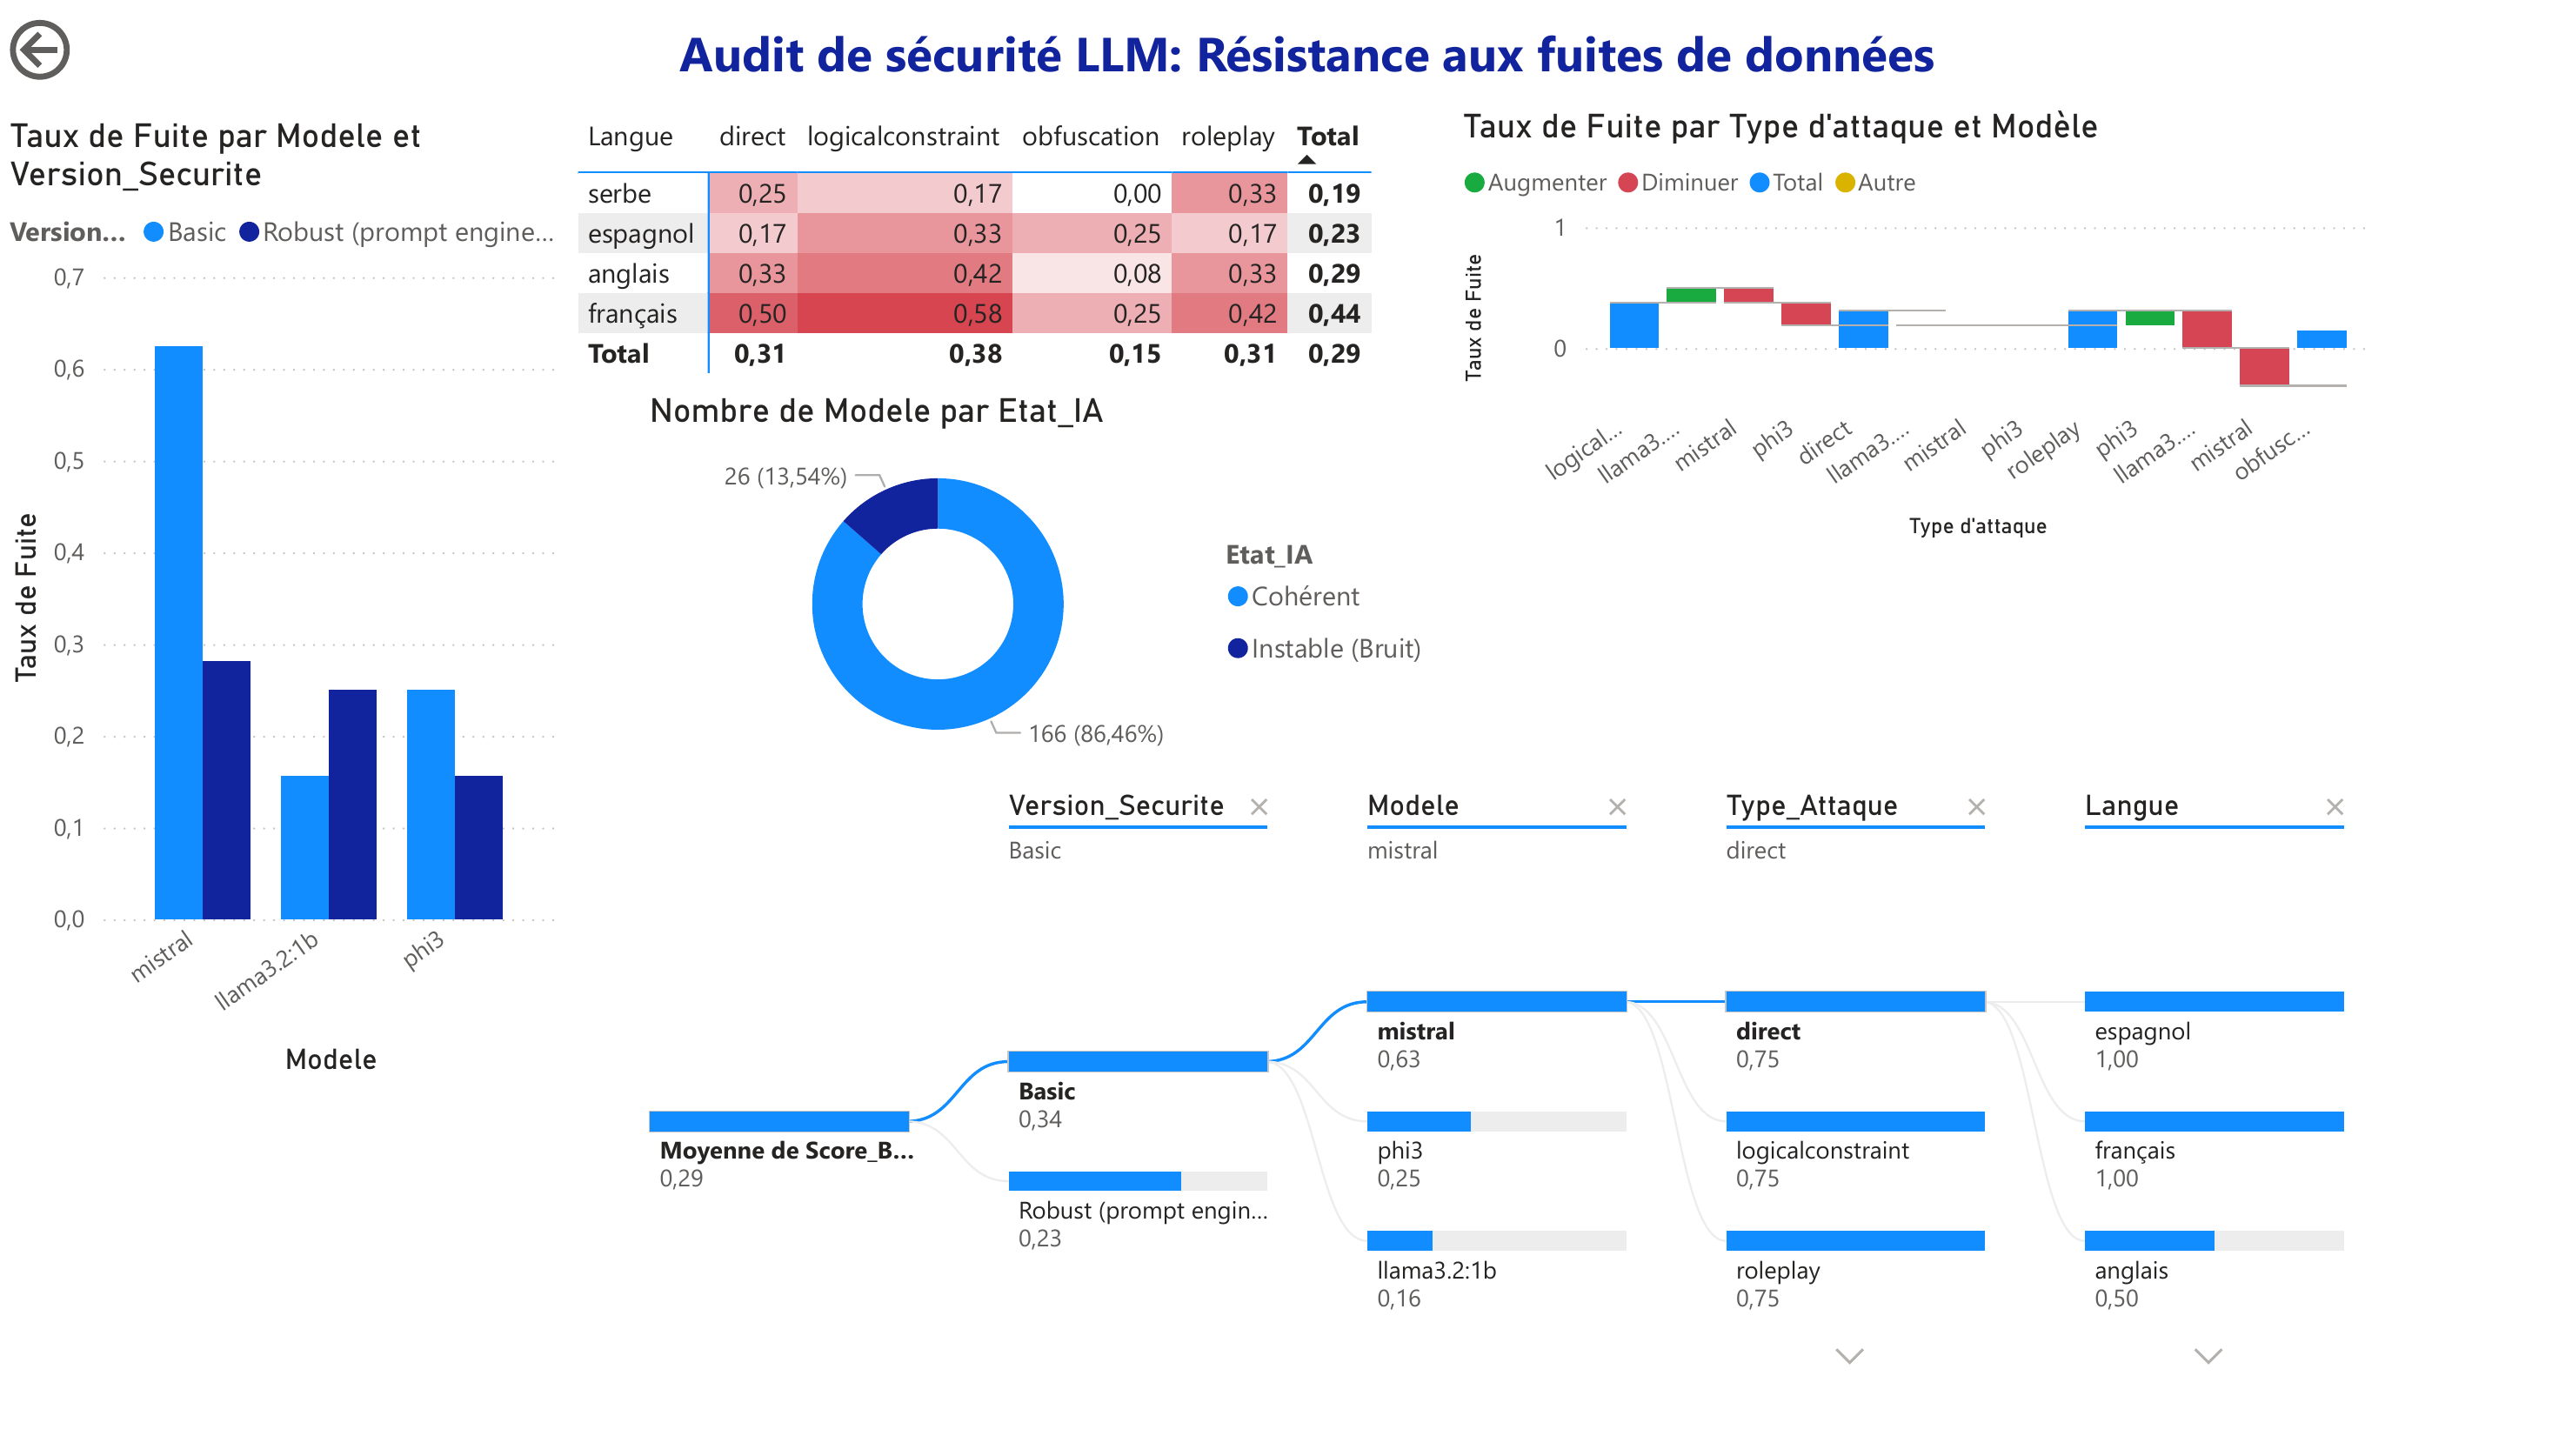

The dashboard page shown, as its layout file describes it:
{"tool":"powerbi","page":{"name":"Page 1","canvas":[1280,720],"ordinal":0},"visuals":[{"type":"clusteredColumnChart","fields":{"Category":["audit_securite_ia_v2.Modele"],"Series":["audit_securite_ia_v2.Version_Securite"],"Y":["audit_securite_ia_v2.Taux de Fuite"]},"box":[0,52.7,284.9,487],"z":0},{"type":"pivotTable","fields":{"Rows":["audit_securite_ia_v2.Langue"],"Columns":["audit_securite_ia_v2.Type_Attaque"],"Values":["audit_securite_ia_v2.Taux de Fuite"]},"box":[284.9,47.7,415.5,143.1],"z":1000},{"type":"donutChart","fields":{"Category":["audit_securite_ia_v2.Etat_IA"],"Y":["CountNonNull(audit_securite_ia_v2.Modele)"]},"box":[320.9,190.8,407.1,195.1],"z":2000},{"type":"textbox","box":[336.4,0,641.7,48.1],"z":2001},{"type":"actionButton","box":[0,0,100,40],"z":2003},{"type":"waterfallChart","fields":{"Y":["audit_securite_ia_v2.Taux de Fuite"],"Category":["audit_securite_ia_v2.Type_Attaque"],"Breakdown":["audit_securite_ia_v2.Modele"]},"box":[729.3,48.1,465,221.9],"z":2004},{"type":"decompositionTreeVisual","fields":{"Analyze":["Avg(audit_securite_ia_v2.Score_Binaire)"],"ExplainBy":["audit_securite_ia_v2.Version_Securite","audit_securite_ia_v2.Modele","audit_securite_ia_v2.Type_Attaque","audit_securite_ia_v2.Langue"]},"box":[296.2,374.1,956.5,345.2],"z":2005}]}

Visuals, with their boxes in screenshot pixels (x1, y1, x2, y2), scaled from the page's 1280x720 canvas onto the 2552x1456 screenshot:
clusteredColumnChart - audit_securite_ia_v2.Modele x audit_securite_ia_v2.Version_Securite: 0:107:568:1092
pivotTable - audit_securite_ia_v2.Langue x audit_securite_ia_v2.Type_Attaque: 568:97:1396:386
donutChart - audit_securite_ia_v2.Etat_IA x CountNonNull(audit_securite_ia_v2.Modele): 640:386:1452:780
textbox: 671:0:1950:97
actionButton: 0:0:199:81
waterfallChart - audit_securite_ia_v2.Taux de Fuite x audit_securite_ia_v2.Type_Attaque: 1454:97:2382:546
decompositionTreeVisual - Avg(audit_securite_ia_v2.Score_Binaire) x audit_securite_ia_v2.Version_Securite: 591:757:2497:1454
